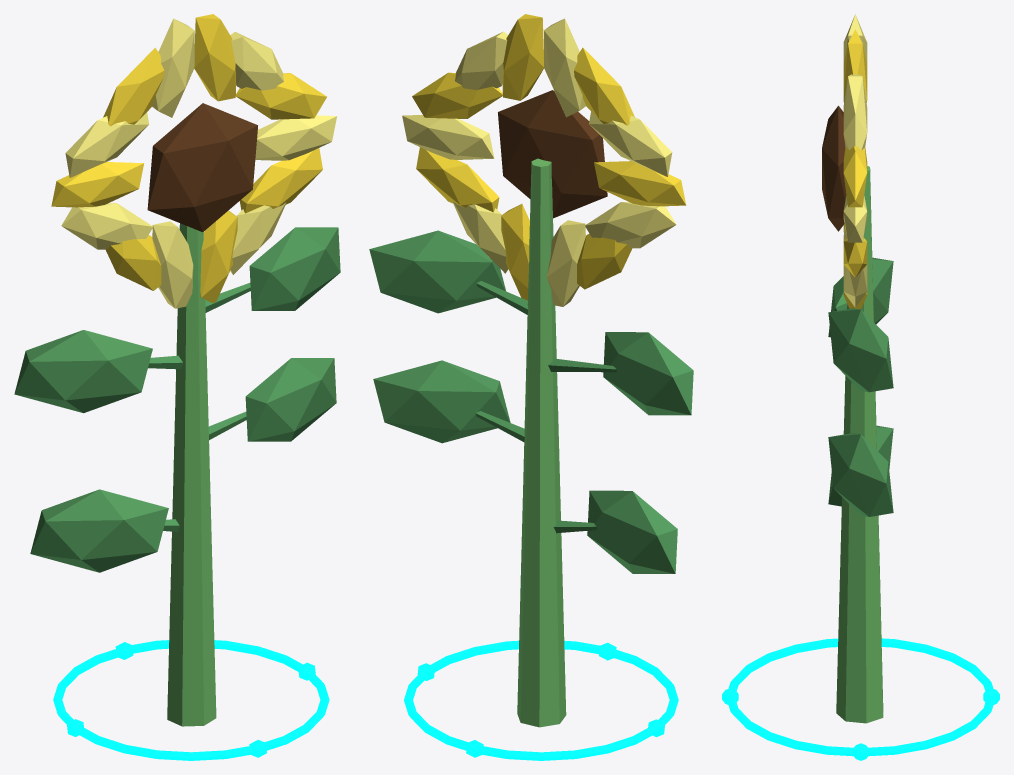
File: mature.glb
3 renders of one model, left to right at view 1: azimuth 30°, elevation 25°; view 2: azimuth 150°, elevation 25°; view 3: azimuth 270°, elevation 25°, orthographic. The views are drawn at different scales.
Parts seen in each view (by area): view 1: Sunflower_Stem, Sunflower_Centre, Sunflower_Leaf_01, Sunflower_Leaf_03, Sunflower_Leaf_02, Sunflower_Leaf_04, Chrono_Energy_Ring, Sunflower_Petal_08, Sunflower_Petal_04, Sunflower_Petal_01, Sunflower_Petal_09, Sunflower_Petal_14 (+9 smaller); view 2: Sunflower_Stem, Sunflower_Centre, Sunflower_Leaf_02, Sunflower_Leaf_04, Sunflower_Leaf_01, Sunflower_Leaf_03, Chrono_Energy_Ring, Sunflower_Petal_01, Sunflower_Petal_08, Sunflower_Petal_04, Sunflower_Petal_14, Sunflower_Petal_09 (+11 smaller); view 3: Sunflower_Stem, Chrono_Energy_Ring, Sunflower_Leaf_02, Sunflower_Leaf_04, Sunflower_Centre, Sunflower_Petal_03, Sunflower_Leaf_03, Sunflower_Petal_02, Sunflower_Petal_04, Sunflower_Petal_01, Sunflower_Petal_14, Sunflower_Leaf_01 (+1 smaller).
Part boxes in pixels (x1,y1,x2,y2): Sunflower_Stem: [167, 223, 216, 726]; Sunflower_Centre: [147, 103, 257, 232]; Sunflower_Leaf_01: [30, 489, 168, 572]; Sunflower_Leaf_03: [14, 330, 152, 413]; Sunflower_Leaf_02: [245, 358, 336, 441]; Sunflower_Leaf_04: [249, 227, 340, 310]; Chrono_Energy_Ring: [53, 640, 329, 760]; Sunflower_Petal_08: [51, 162, 143, 207]; Sunflower_Petal_04: [194, 14, 236, 101]; Sunflower_Petal_01: [255, 115, 336, 160]; Sunflower_Petal_09: [61, 203, 152, 249]; Sunflower_Petal_14: [239, 148, 322, 213]; Sunflower_Stem: [517, 158, 566, 727]; Sunflower_Centre: [498, 90, 607, 218]; Sunflower_Leaf_02: [373, 360, 510, 443]; Sunflower_Leaf_04: [369, 230, 505, 313]; Sunflower_Leaf_01: [587, 490, 677, 573]; Sunflower_Leaf_03: [603, 332, 693, 415]; Chrono_Energy_Ring: [404, 640, 678, 760]; Sunflower_Petal_01: [402, 115, 494, 159]; Sunflower_Petal_08: [594, 161, 686, 206]; Sunflower_Petal_04: [502, 14, 543, 100]; Sunflower_Petal_14: [416, 147, 499, 212]; Sunflower_Petal_09: [585, 202, 676, 248]; Sunflower_Stem: [836, 166, 883, 723]; Chrono_Energy_Ring: [727, 638, 994, 756]; Sunflower_Leaf_02: [828, 433, 893, 516]; Sunflower_Leaf_04: [828, 308, 893, 392]; Sunflower_Centre: [822, 105, 846, 231]; Sunflower_Petal_03: [843, 74, 867, 150]; Sunflower_Leaf_03: [828, 257, 893, 337]; Sunflower_Petal_02: [843, 146, 867, 207]; Sunflower_Petal_04: [843, 29, 867, 102]; Sunflower_Petal_01: [843, 196, 867, 242]; Sunflower_Petal_14: [843, 238, 867, 277]; Sunflower_Leaf_01: [828, 425, 893, 506].
Bounding box in the file's own units: 1.62 × 3.38 × 1.23.
